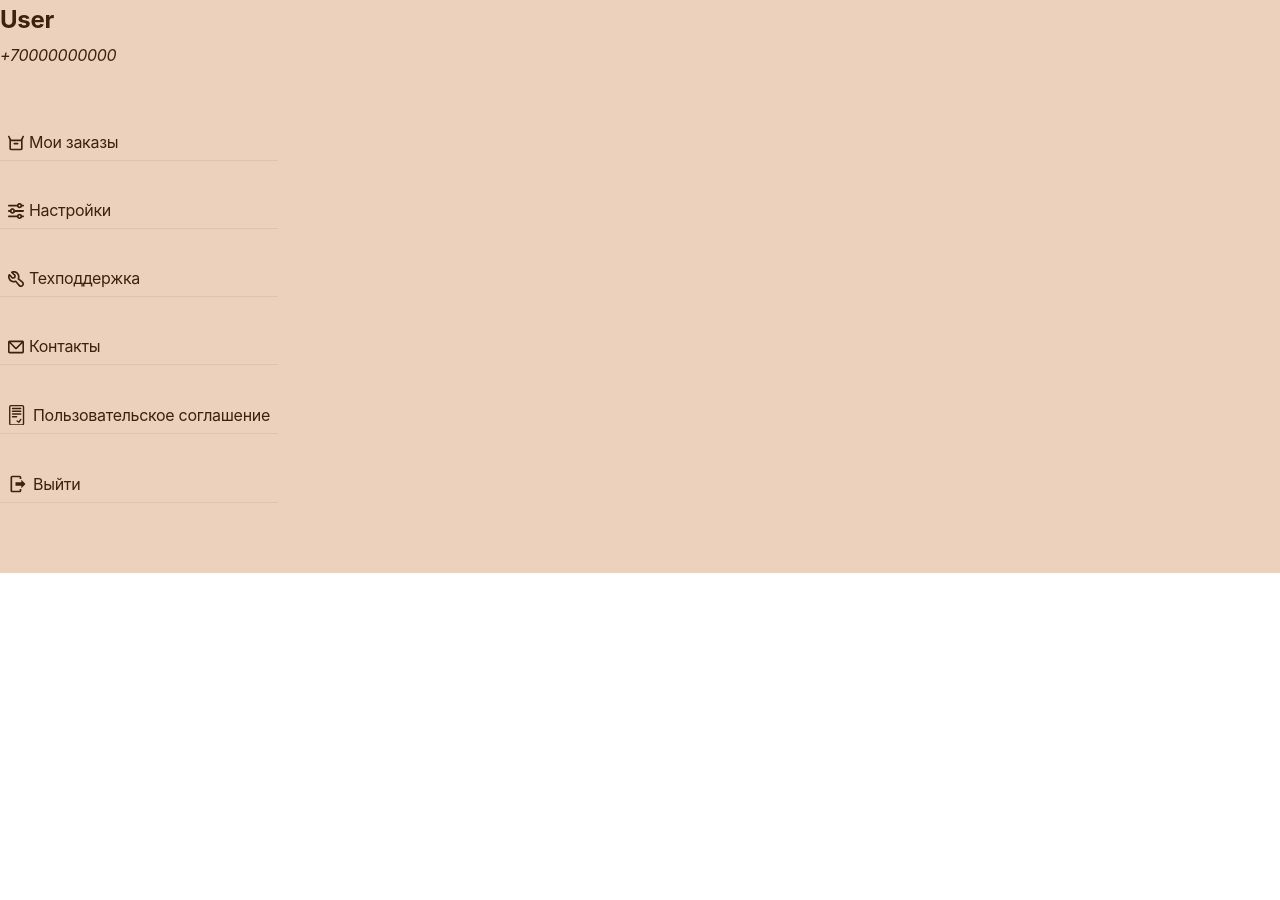
Profile › Кнопка Контакты показывает страницу с контактами кофейни
Click the button "Контакты".
click(65, 346)  # box [0,329,278,365]
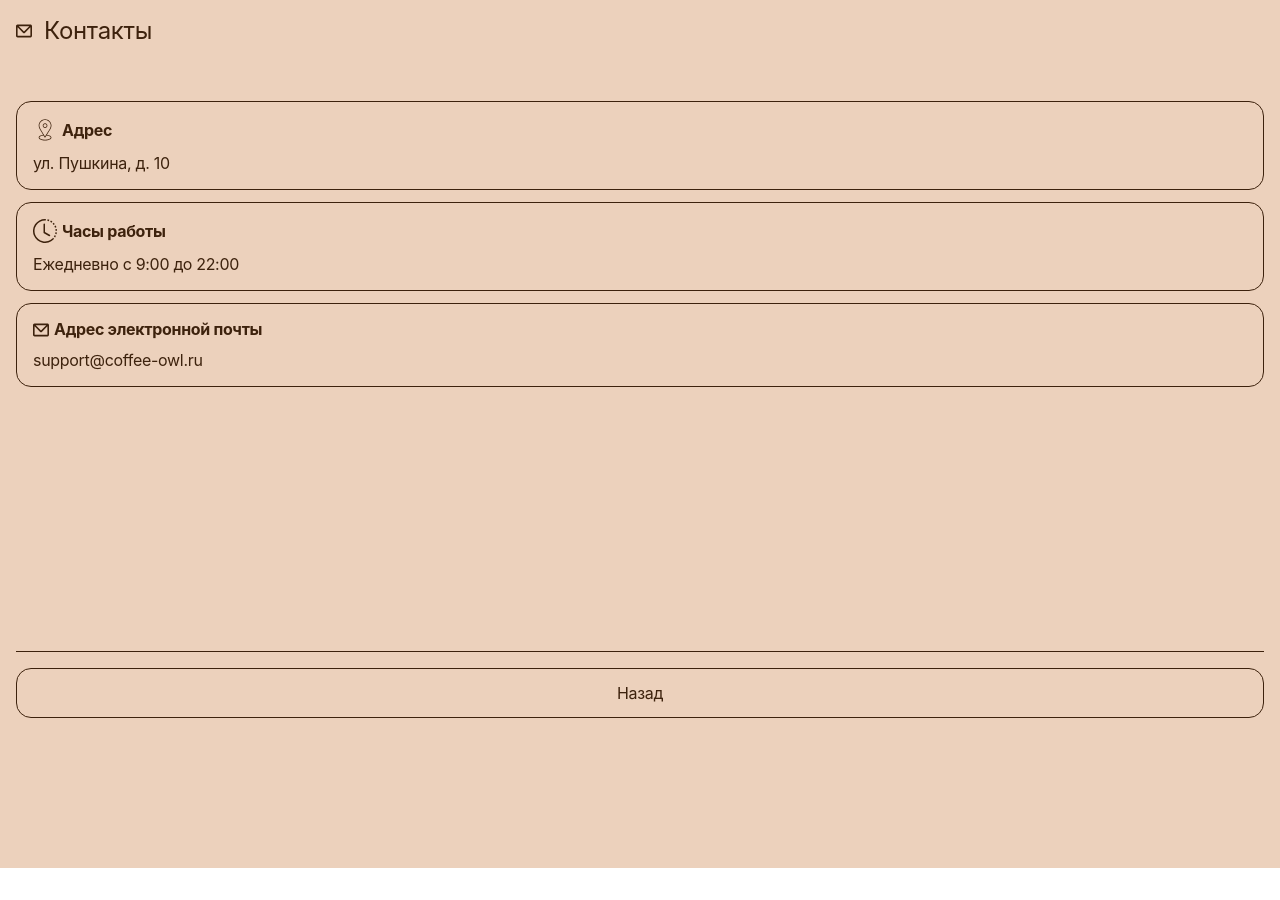
Expected: the text "Адрес" is shown, [62,120,112,140]
Expected: the button "Мои заказы" is gone
